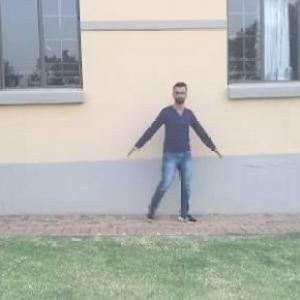land: (121, 86, 219, 236)
